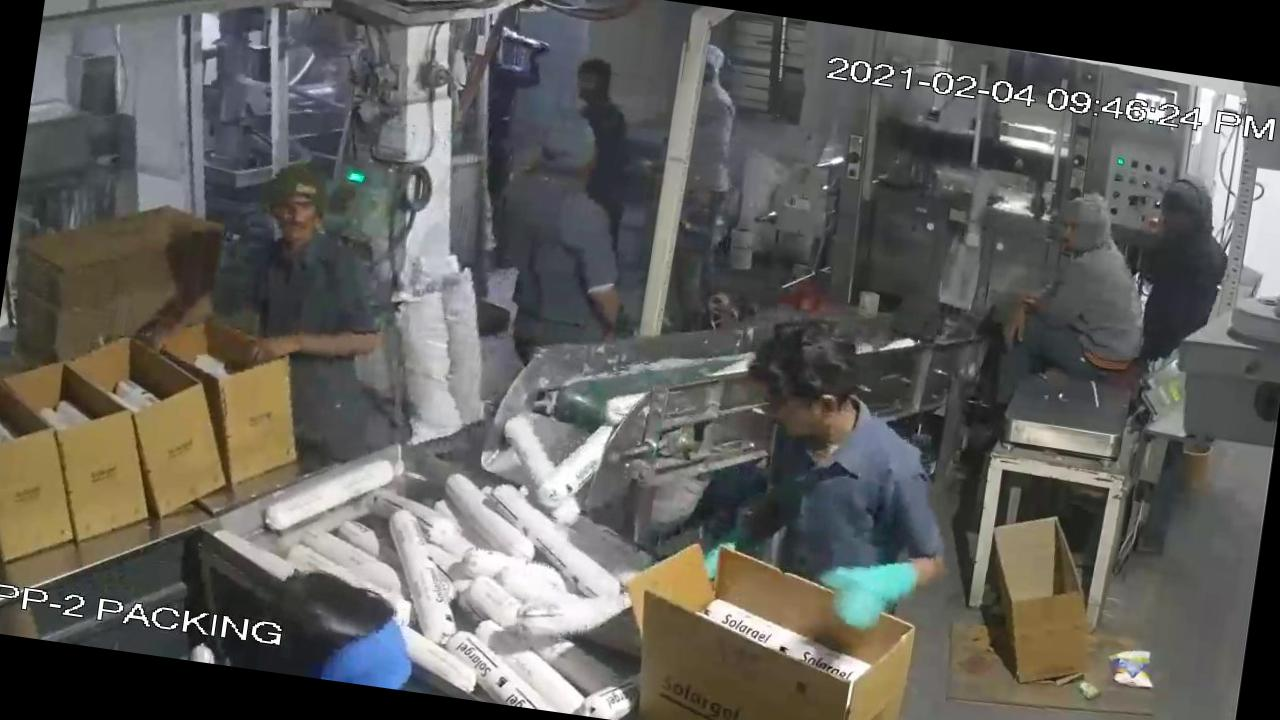Gloves: (818, 526, 978, 654)
No-gloves: (230, 304, 410, 389), (135, 270, 248, 366), (992, 288, 1061, 380)
